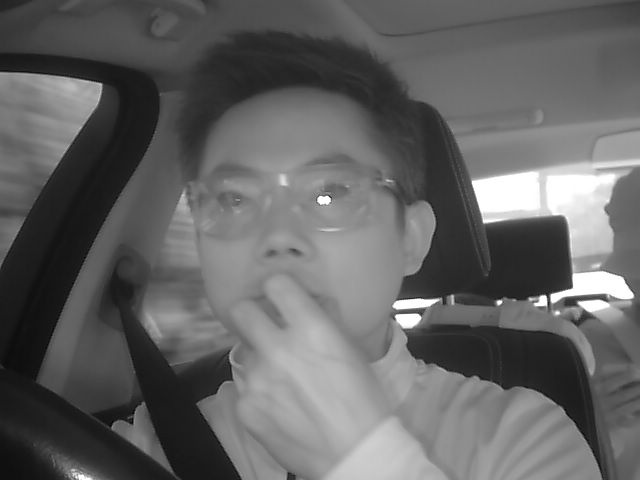hand: (221, 274, 386, 466)
